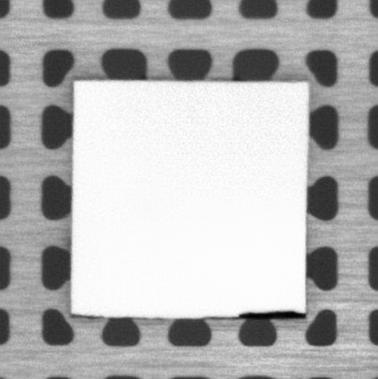DIE_BROKEN: (234, 308, 308, 320)
